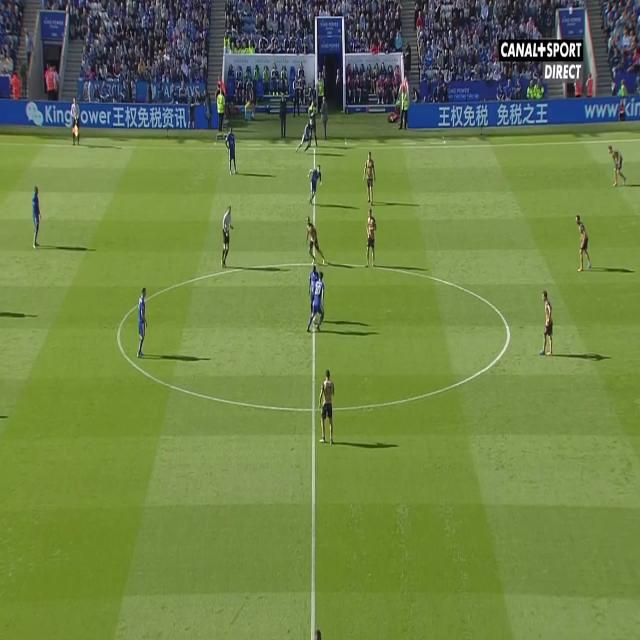Ball: (312, 314, 318, 326)
Player: (316, 370, 337, 447), (306, 272, 327, 340), (305, 216, 328, 270), (134, 285, 150, 362), (575, 212, 593, 276), (607, 144, 629, 190), (30, 178, 43, 253), (540, 290, 554, 358), (364, 208, 379, 269), (363, 151, 377, 209), (306, 163, 323, 207), (225, 129, 238, 177), (295, 122, 312, 154), (309, 264, 319, 303)
Referee: (220, 205, 236, 272), (70, 94, 81, 144)
